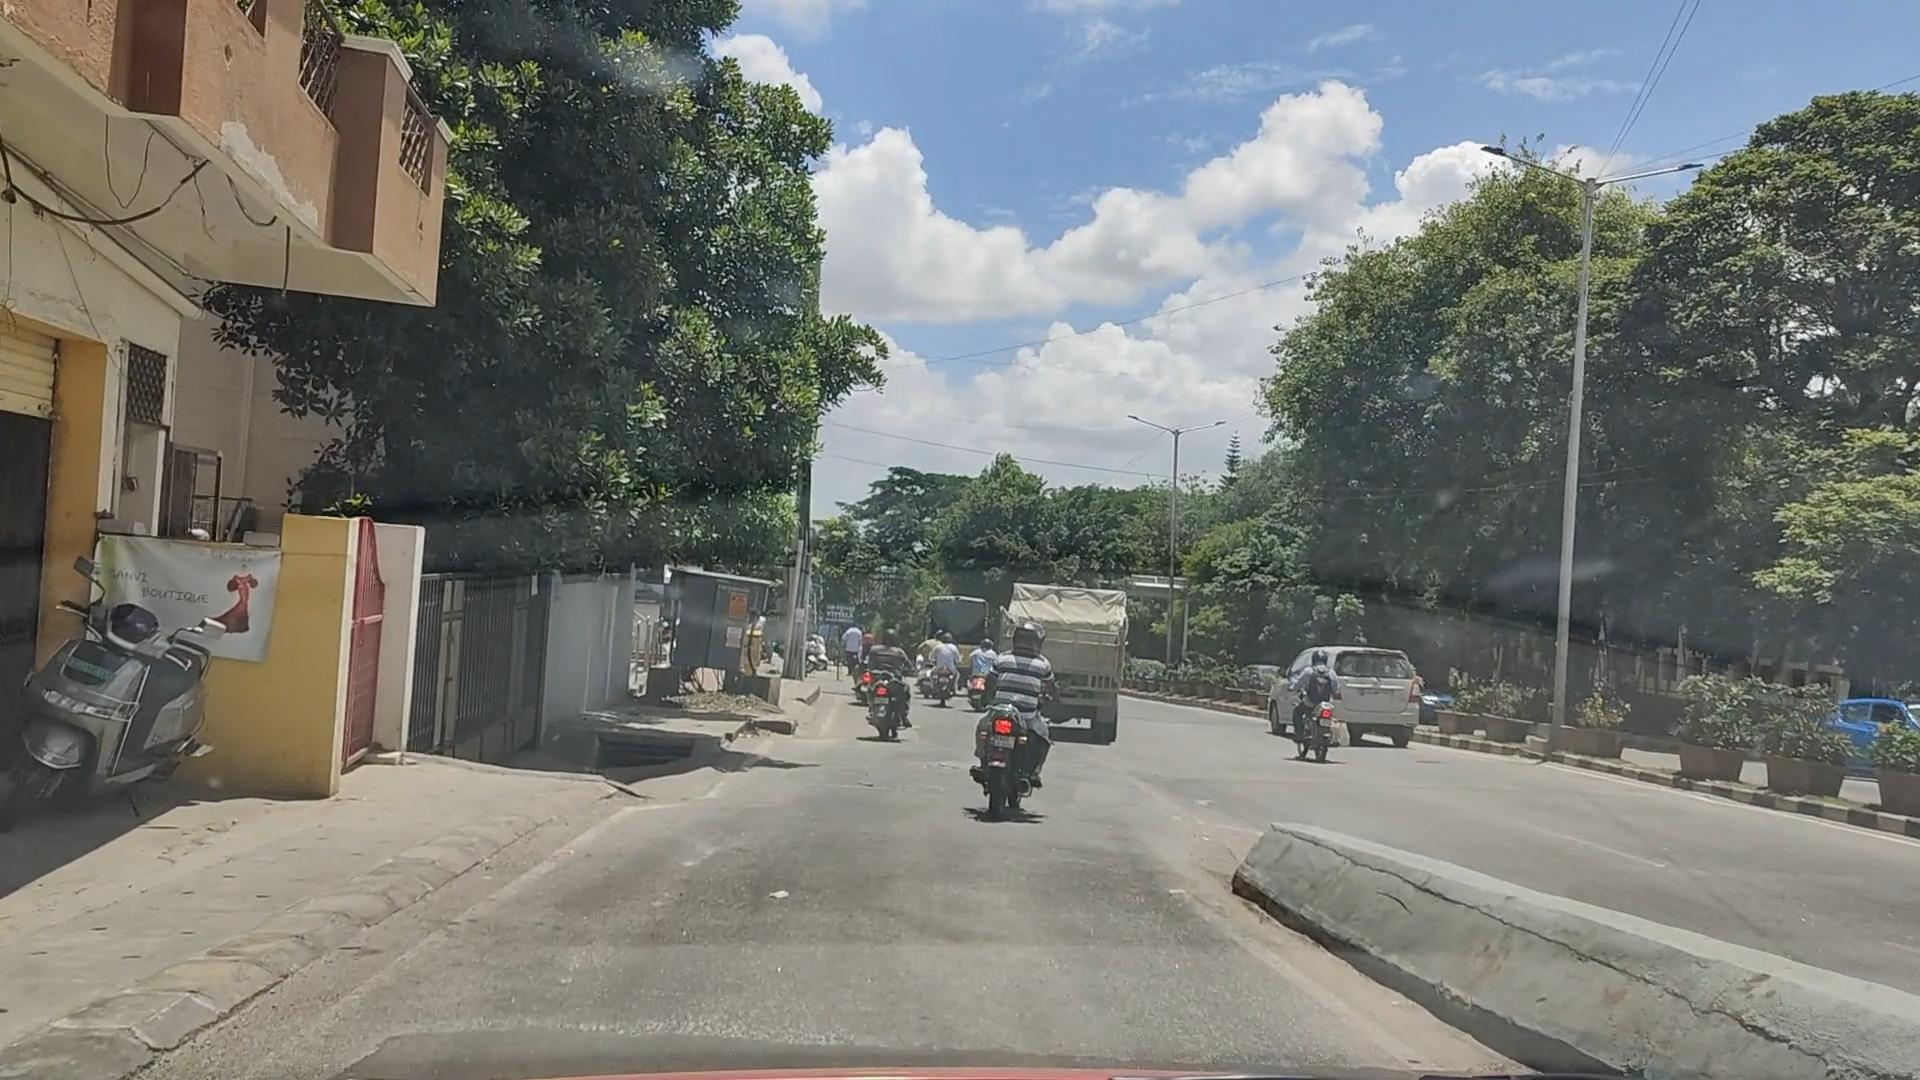HMV: (976, 567, 1141, 742)
